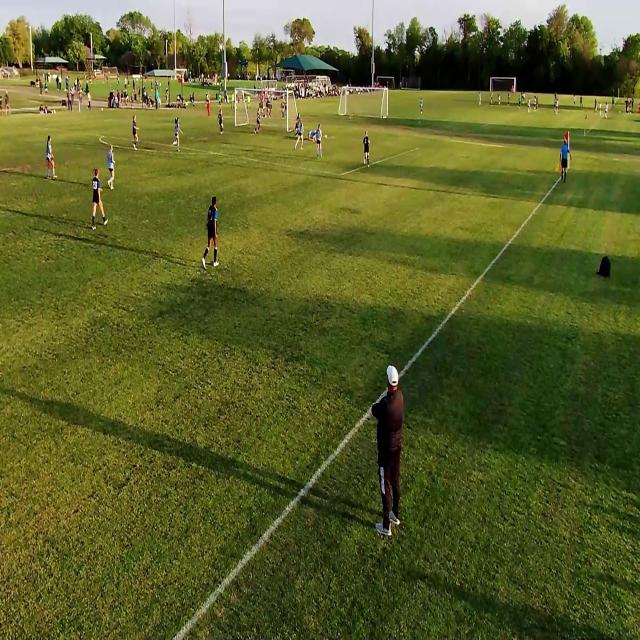ball: (324, 134, 328, 140)
team1: (204, 197, 219, 270), (90, 168, 108, 228), (361, 129, 371, 167), (254, 108, 263, 135), (131, 114, 138, 148), (289, 112, 299, 134), (218, 108, 225, 136)
team2: (46, 135, 56, 179), (106, 145, 116, 189), (172, 117, 181, 151), (298, 120, 306, 152), (315, 125, 322, 158)
